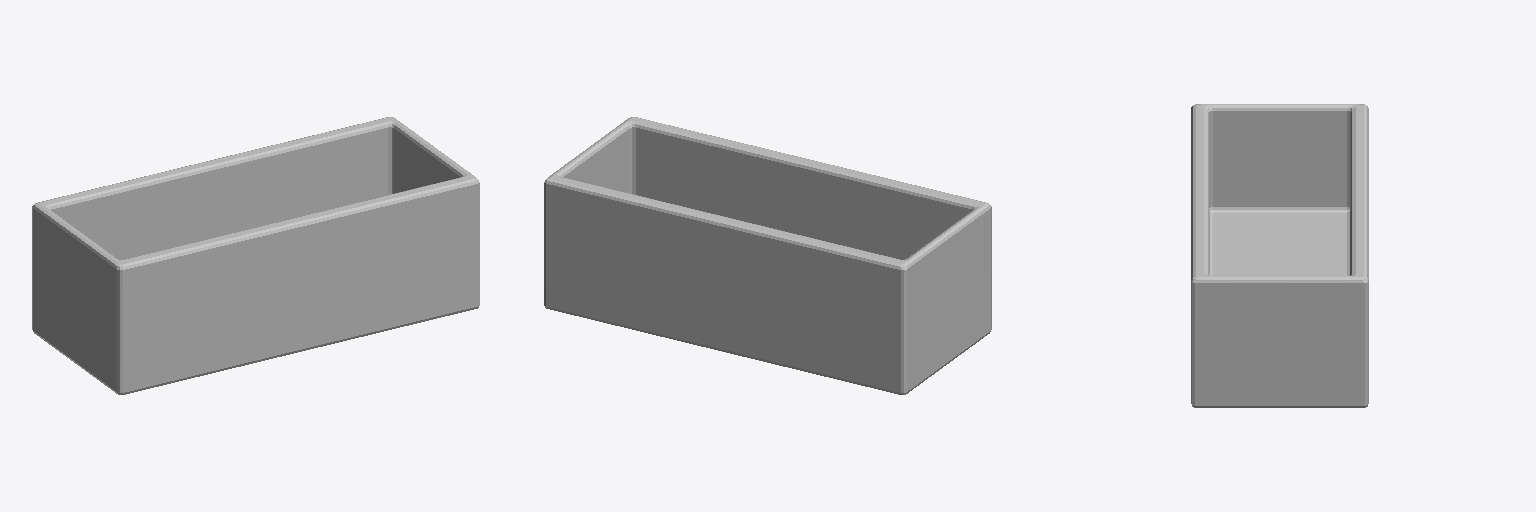
File: BOX PUPUK FANCY.obj
3 views of the same model, side by side, from view 1: azimuth 30°, elevation 25°; view 2: azimuth 150°, elevation 25°; view 3: azimuth 270°, elevation 25° (orthographic).
Visible parts, largest first — view 1: pCube31; view 2: pCube31; view 3: pCube31.
Part boxes in pixels (x1,y1,x2,y2): pCube31: (32, 117, 479, 394); pCube31: (544, 117, 991, 394); pCube31: (1191, 104, 1368, 407).
Size of the model in its own units: 3.31 by 1.14 by 1.4.